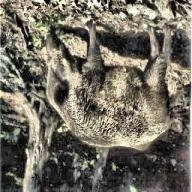boar: (43, 19, 173, 152)
